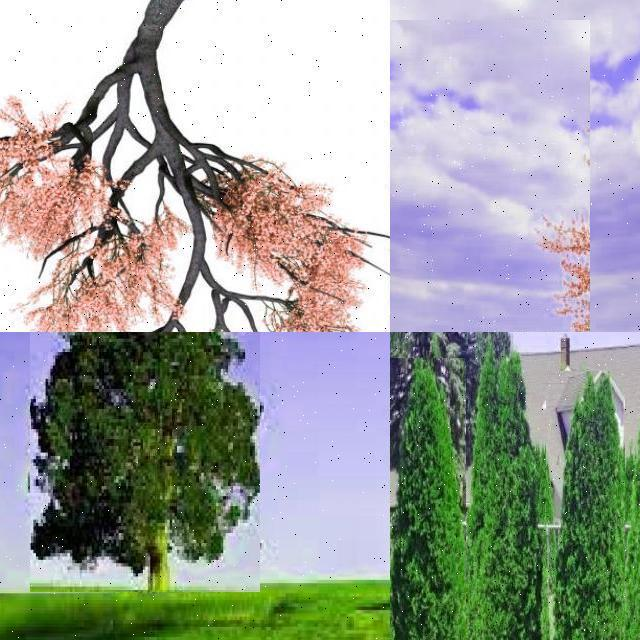tree: (0, 0, 390, 332), (390, 20, 590, 332), (30, 332, 260, 592), (470, 340, 542, 640), (390, 358, 466, 640), (546, 371, 625, 640), (402, 332, 480, 482), (390, 343, 425, 640), (390, 332, 434, 480)
